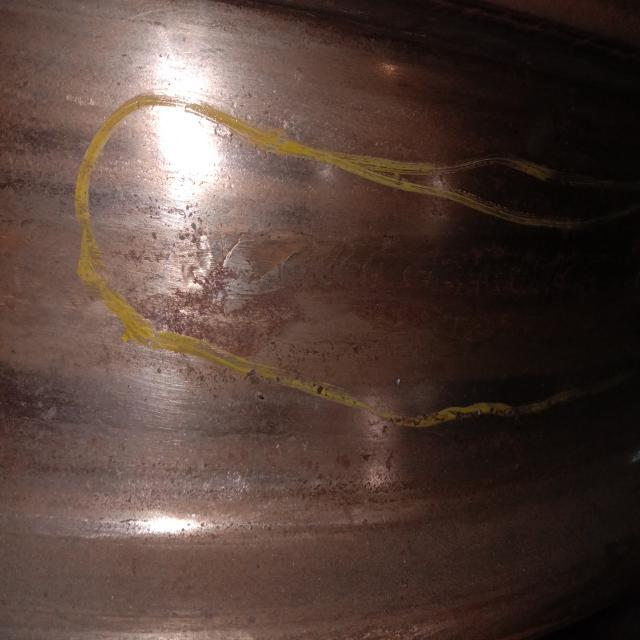Rollerpile: (84, 180, 610, 406)
